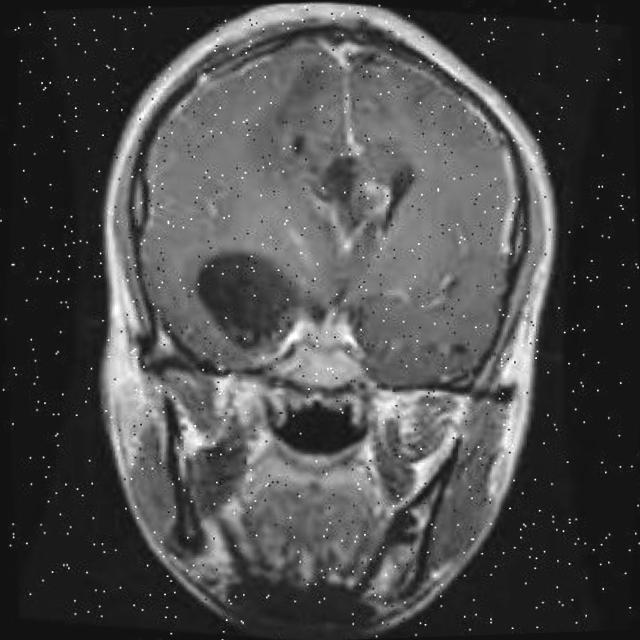CN: (170, 225, 324, 368)
